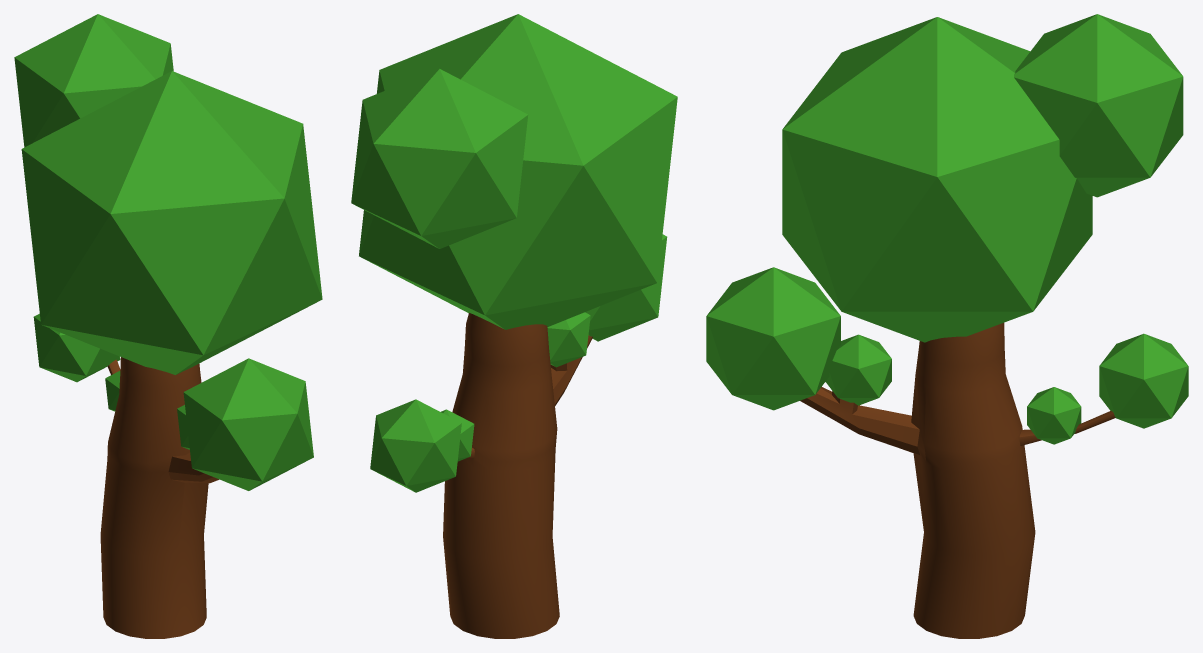
The model's file is Three 1.fbx.
The picture shows the model from 3 angles, left to right: view 1: azimuth 30°, elevation 25°; view 2: azimuth 150°, elevation 25°; view 3: azimuth 270°, elevation 25°; orthographic projection. The views are drawn at different scales.
Visible parts, largest first — view 1: Arvore; view 2: Arvore; view 3: Arvore.
Part boxes in pixels (x1,y1,x2,y2): Arvore: (14, 14, 322, 638); Arvore: (351, 14, 677, 638); Arvore: (706, 14, 1188, 638).
Bounding box in the file's own units: 585 × 1194 × 865.
